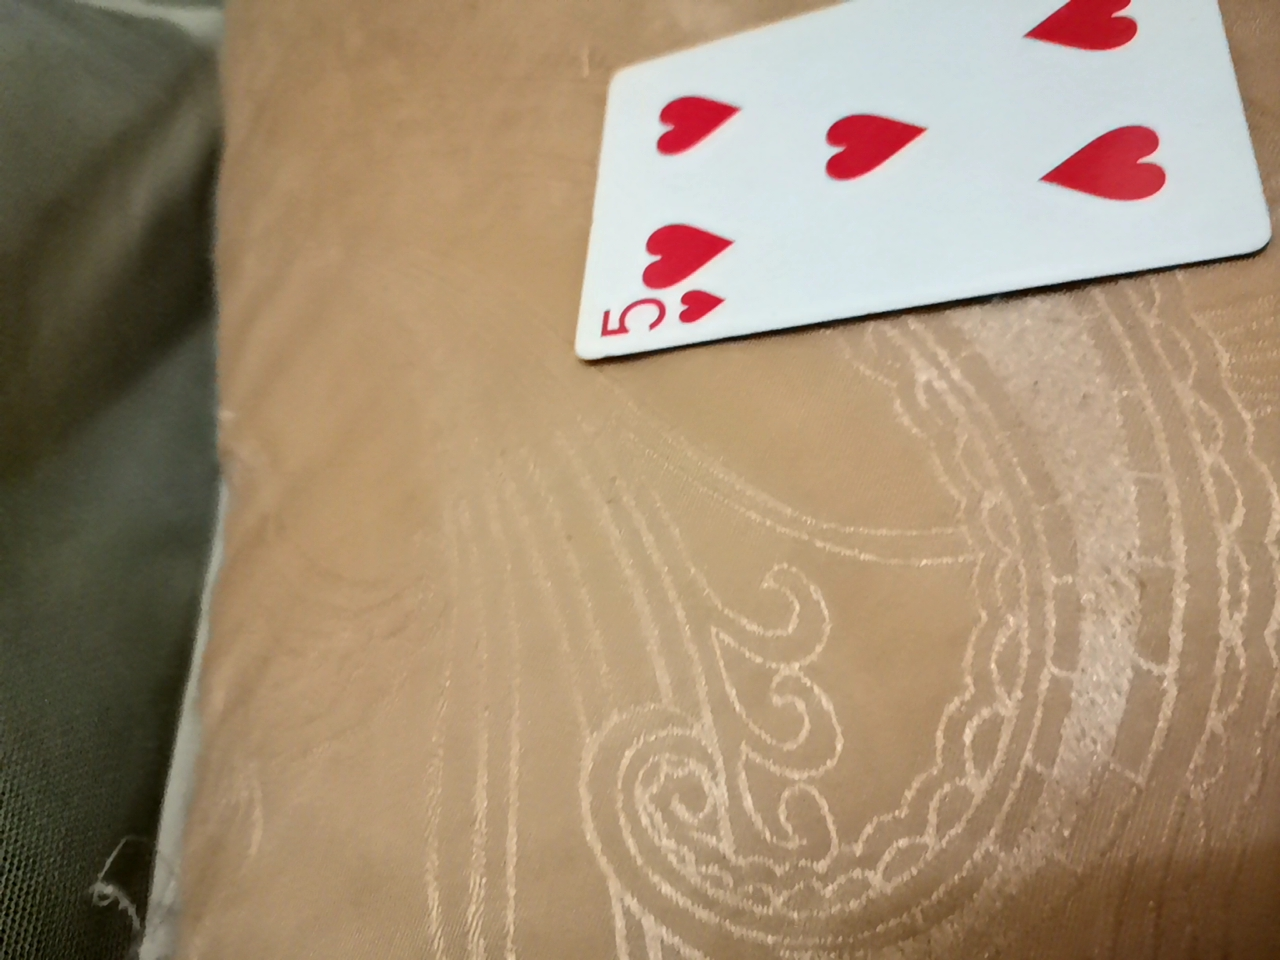hx 5: (547, 4, 1266, 389)
